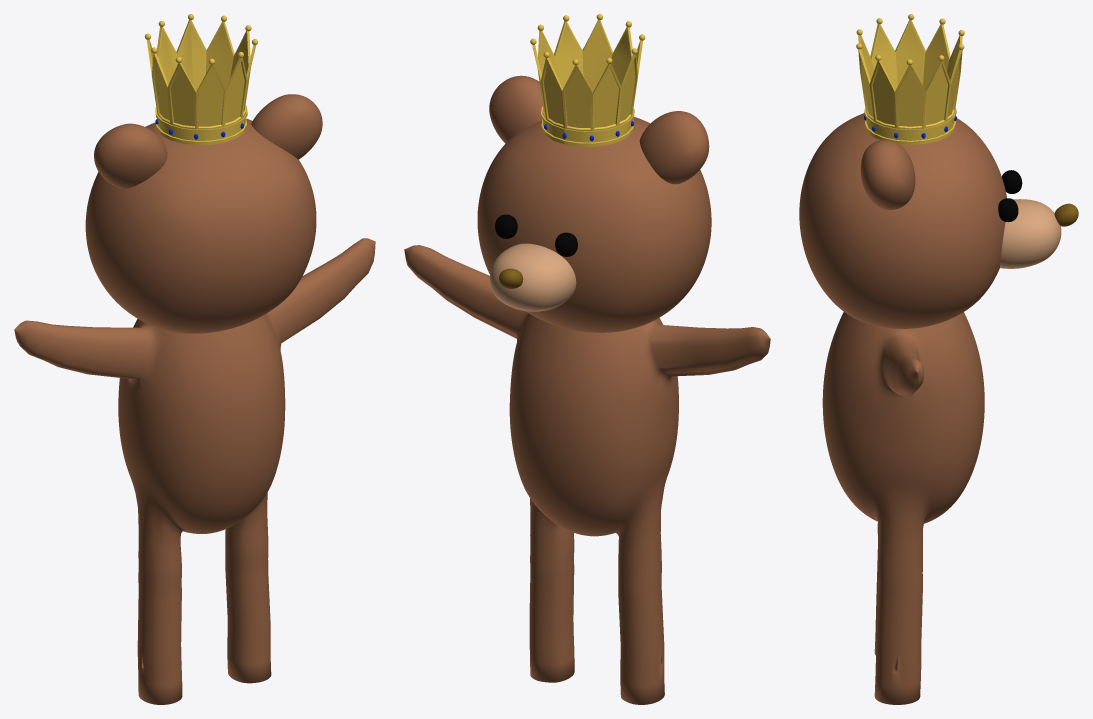
File: bear_level_4.glb
3 views of the same model, side by side, from view 1: azimuth 30°, elevation 25°; view 2: azimuth 150°, elevation 25°; view 3: azimuth 270°, elevation 25° (orthographic).
Parts seen in each view (by area): view 1: Body, Head, 円柱, rightEar, leftEar; view 2: Body, Head, 円柱, mouth, rightEar, leftEar; view 3: Body, Head, 円柱, mouth, leftEar.
Part boxes in pixels (bbox=[...]): Body: bbox=[14, 238, 375, 704]; Head: bbox=[85, 118, 316, 333]; 円柱: bbox=[146, 20, 255, 145]; rightEar: bbox=[94, 123, 167, 188]; leftEar: bbox=[251, 94, 322, 159]; Body: bbox=[404, 245, 770, 704]; Head: bbox=[477, 116, 711, 332]; 円柱: bbox=[532, 20, 642, 146]; mouth: bbox=[489, 243, 576, 311]; rightEar: bbox=[639, 111, 709, 184]; leftEar: bbox=[489, 75, 542, 143]; Body: bbox=[822, 312, 984, 704]; Head: bbox=[799, 113, 1006, 328]; 円柱: bbox=[858, 20, 962, 145]; mouth: bbox=[1000, 199, 1061, 268]; leftEar: bbox=[860, 139, 915, 209].
Size of the model in its own units: 6.77 by 11.53 by 4.56.
